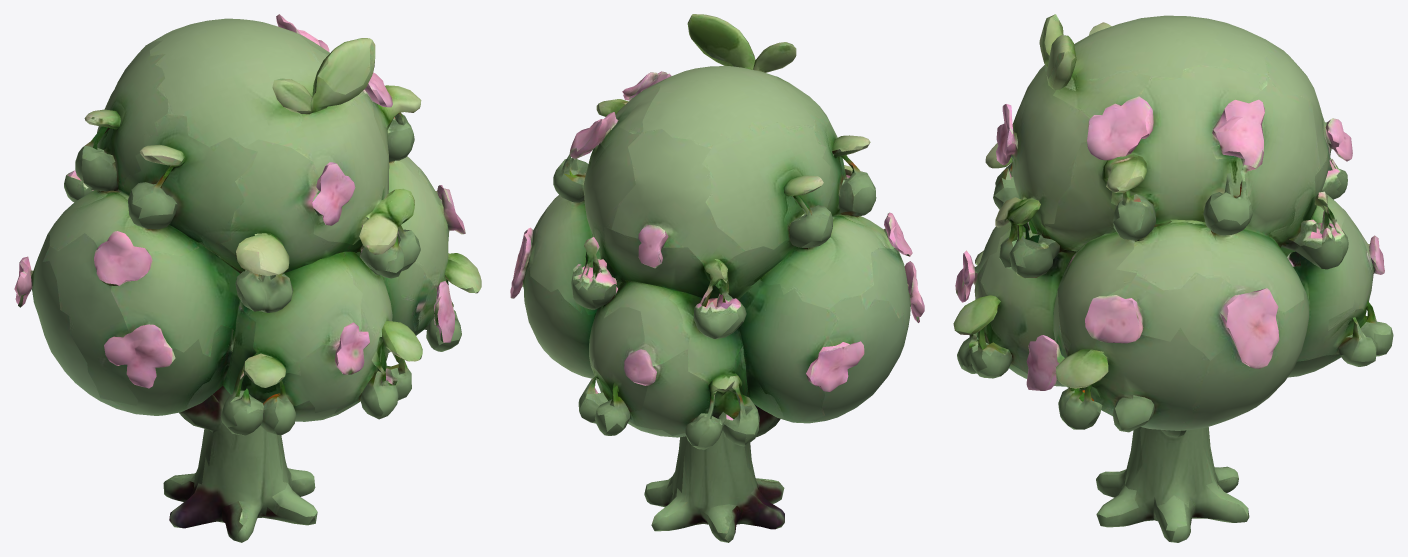
The model's file is fruit_tree_cherry_bare.glb.
3 renders of one model, left to right at view 1: azimuth 30°, elevation 25°; view 2: azimuth 150°, elevation 25°; view 3: azimuth 270°, elevation 25°, orthographic. The views are drawn at different scales.
Parts seen in each view (by area): view 1: fruit_tree_cherry_s71; view 2: fruit_tree_cherry_s71; view 3: fruit_tree_cherry_s71.
Boxes of the visible parts, box(x1,y1,x2,y2) form: fruit_tree_cherry_s71: box(14, 14, 481, 542); fruit_tree_cherry_s71: box(510, 14, 924, 542); fruit_tree_cherry_s71: box(953, 14, 1393, 542).
Bounding box in the file's own units: 0.8313 × 1 × 0.8027.
Materials: 1 (1 with a texture image).
